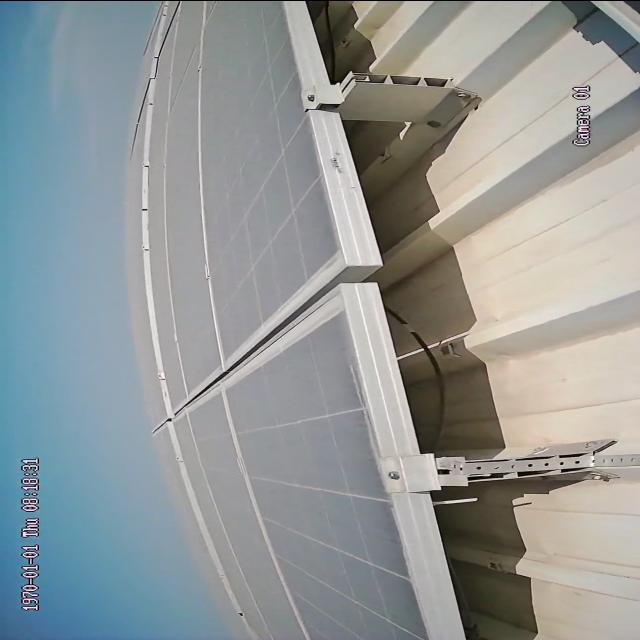interior panel: (177, 254, 334, 420)
outher panel: (284, 2, 640, 640)
